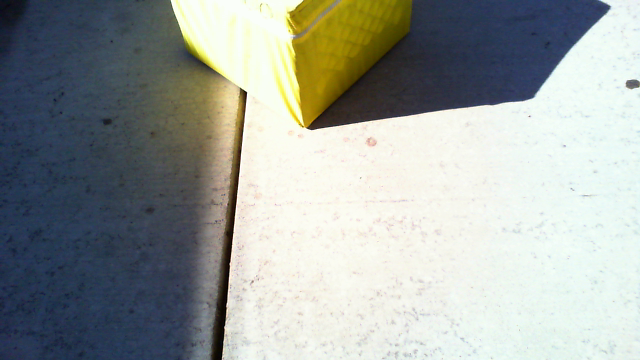cube: (167, 1, 414, 130)
